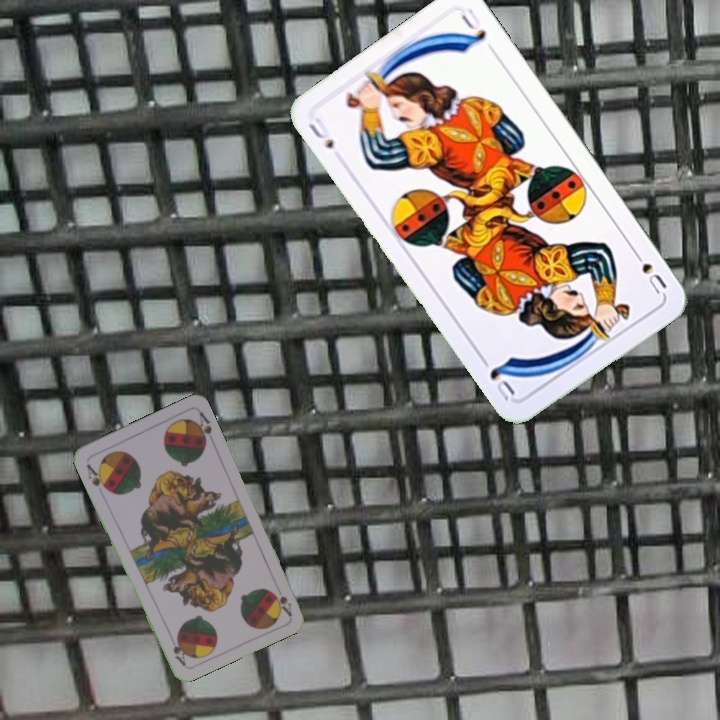SA: (82, 460, 111, 497), (270, 588, 294, 618)
SU: (628, 245, 670, 298), (304, 114, 337, 152)
